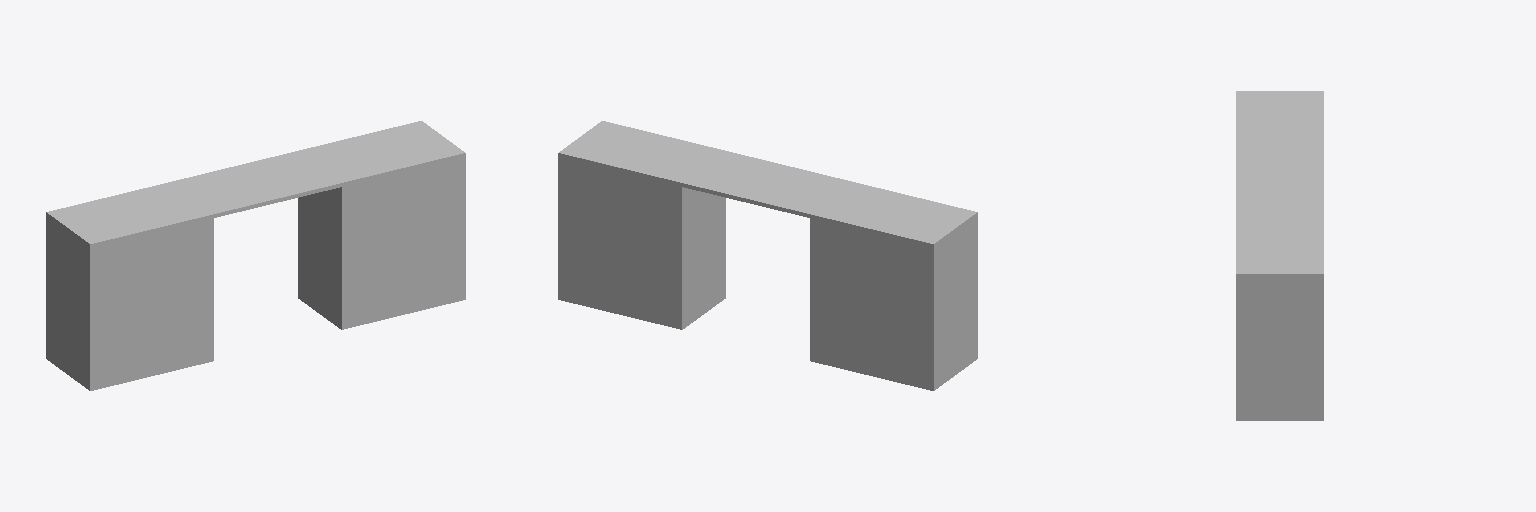
Rendered from door.obj.
3 views of the same model, side by side, from view 1: azimuth 30°, elevation 25°; view 2: azimuth 150°, elevation 25°; view 3: azimuth 270°, elevation 25° (orthographic).
Bounding box in the file's own units: 23.19 × 8.68 × 4.71.